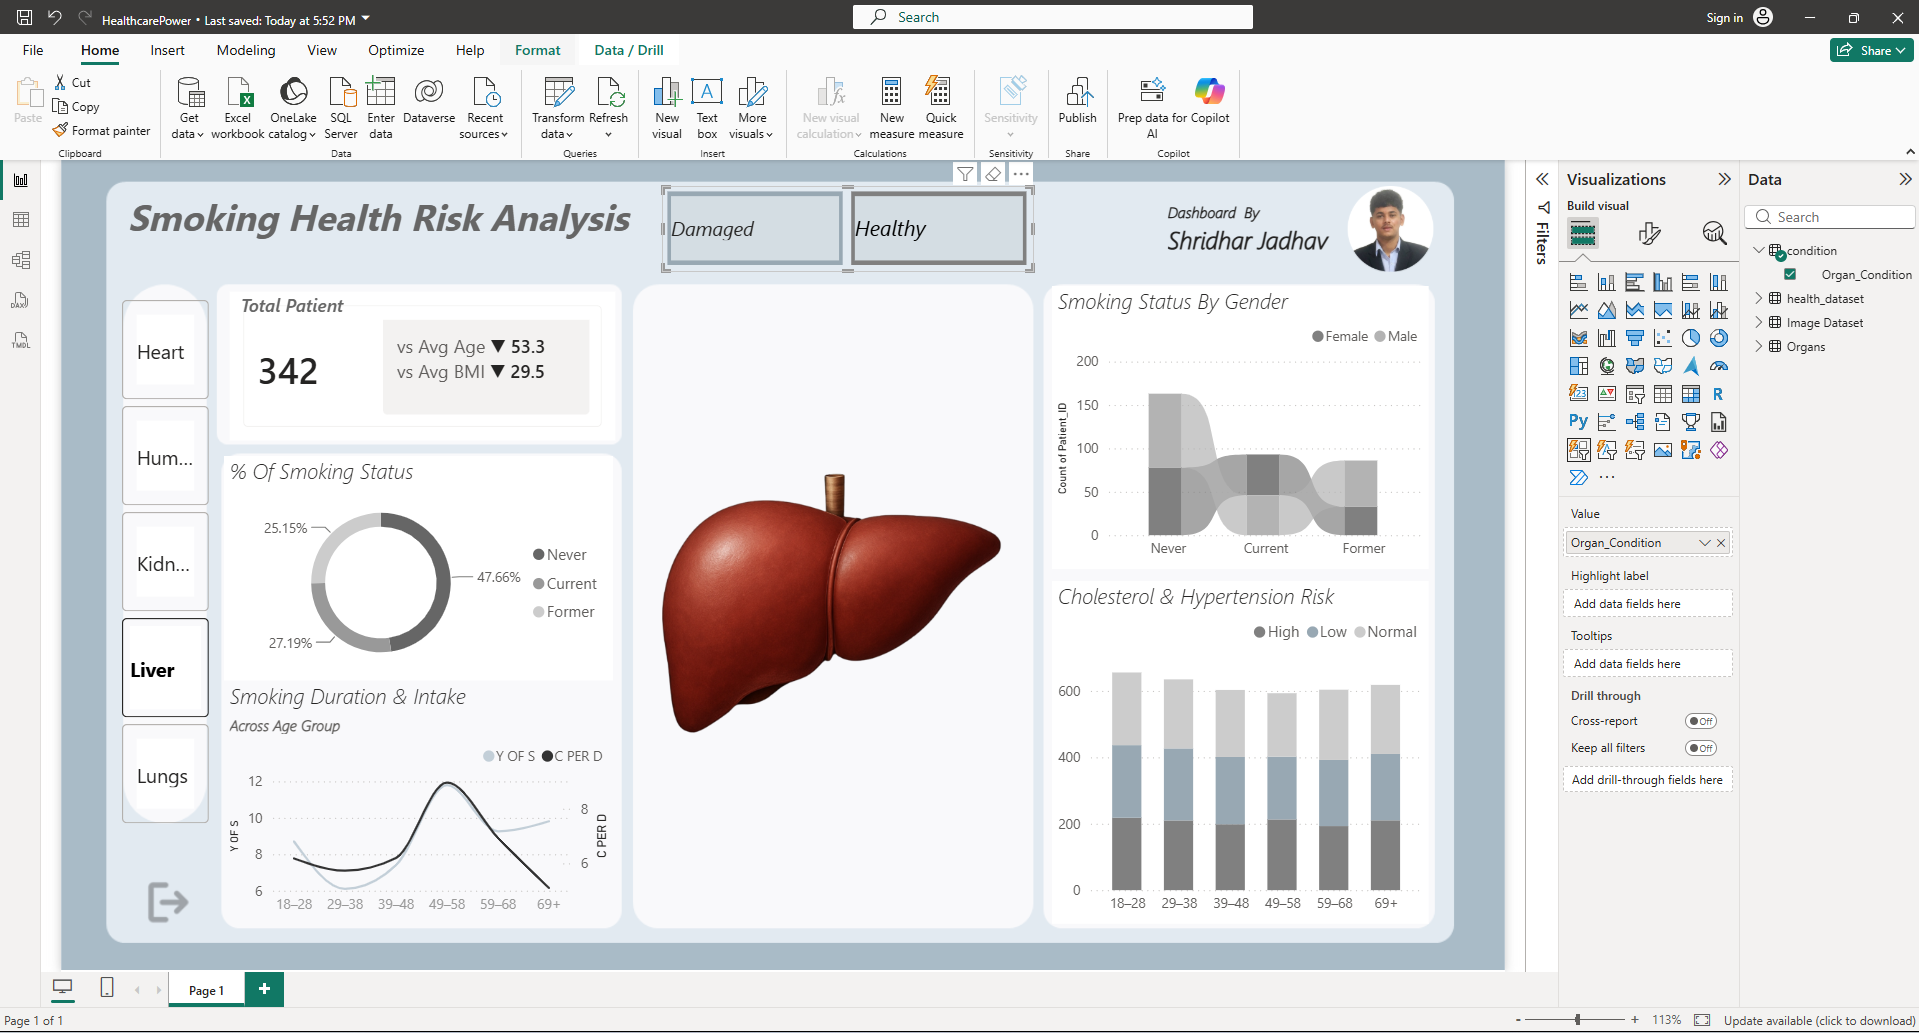

Layout of this report page (visuals, bound fields, positions):
{"tool":"powerbi","page":{"name":"Page 1","canvas":[1280,720],"ordinal":0},"visuals":[{"type":"cardVisual","fields":{"Data":["CountNonNull(health_dataset.Patient_ID)"]},"box":[144.9,111.9,352.1,142],"z":0},{"type":"textbox","box":[154.7,112.3,138.7,37.7],"z":1000},{"type":"advancedSlicerVisual","fields":{"Values":["condition.Organ_Condition"]},"box":[533,23.3,329.7,75.9],"z":2000},{"type":"advancedSlicerVisual","fields":{"Values":["Organs.Organ"]},"box":[54.5,124.5,77.8,466.9],"z":3000},{"type":"image","box":[506.7,111.9,356,566.1],"z":4000},{"type":"donutChart","title":"% Of Smoking Status","fields":{"Category":["health_dataset.Smoking_Status"],"Y":["CountNonNull(health_dataset.Smoking_Status)"]},"box":[144.9,262.6,345.3,199.4],"z":5000},{"type":"lineChart","title":"Smoking Duration & Intake","fields":{"Category":["health_dataset.Age Group"],"Y":["Avg(health_dataset.Years_of_Smoking)"],"Y2":["Avg(health_dataset.Cigarettes_Per_Day)"]},"box":[144.9,462,345.3,215.9],"z":6000},{"type":"ribbonChart","title":"Smoking Status By Gender","fields":{"Category":["health_dataset.Smoking_Status"],"Y":["CountNonNull(health_dataset.Patient_ID)"],"Series":["health_dataset.Gender"]},"box":[878.3,111.9,333.6,250.9],"z":7000},{"type":"columnChart","title":"Cholesterol & Hypertension Risk","fields":{"Category":["health_dataset.Age Group"],"Y":["Avg(health_dataset.Cholesterol_Level)"],"Series":["health_dataset.BP_Risk"]},"box":[878.3,373.5,333.6,304.4],"z":8000},{"type":"textbox","box":[54.5,23.3,466.9,75.9],"z":9000},{"type":"image","box":[1119.5,23.3,117.7,75.9],"z":10000},{"type":"textbox","box":[976.3,23.1,158.7,76.3],"z":11000}]}

Visuals, with their boxes on the page's 1280x720 design canvas (x1, y1, x2, y2). These are canvas units, not pixel positions in the 1919x1033 screenshot, which may show the page scaled, cropped or inside an application window:
cardVisual - CountNonNull(health_dataset.Patient_ID): x1=145, y1=112, x2=497, y2=254
textbox: x1=155, y1=112, x2=293, y2=150
advancedSlicerVisual - condition.Organ_Condition: x1=533, y1=23, x2=863, y2=99
advancedSlicerVisual - Organs.Organ: x1=54, y1=124, x2=132, y2=591
image: x1=507, y1=112, x2=863, y2=678
"% Of Smoking Status" donutChart: x1=145, y1=263, x2=490, y2=462
"Smoking Duration & Intake" lineChart: x1=145, y1=462, x2=490, y2=678
"Smoking Status By Gender" ribbonChart: x1=878, y1=112, x2=1212, y2=363
"Cholesterol & Hypertension Risk" columnChart: x1=878, y1=374, x2=1212, y2=678
textbox: x1=54, y1=23, x2=521, y2=99
image: x1=1120, y1=23, x2=1237, y2=99
textbox: x1=976, y1=23, x2=1135, y2=99
